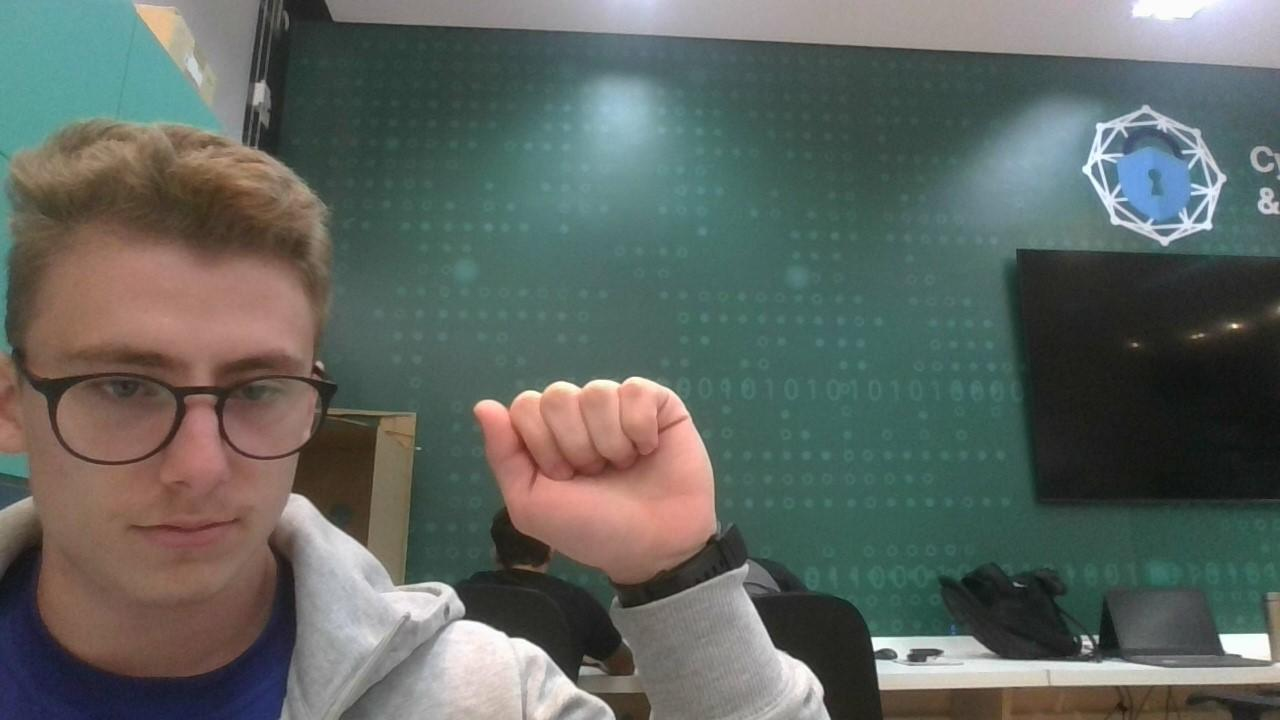A: (450, 366, 762, 600)
